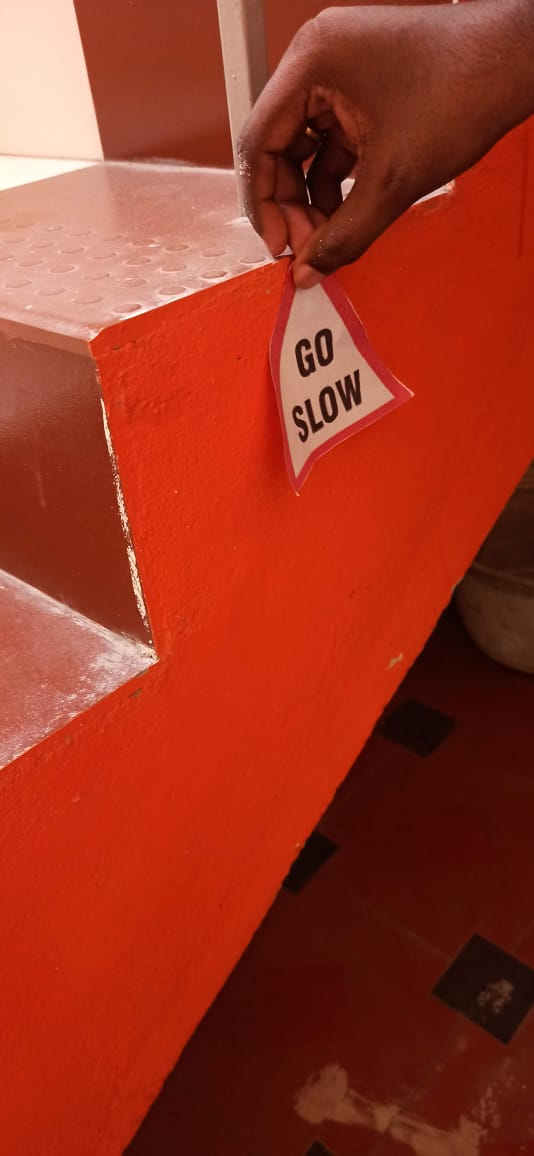GO SLOW: (265, 248, 441, 486)
